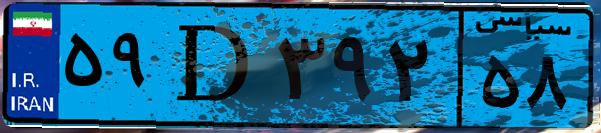2: (385, 28, 445, 110)
3: (270, 28, 330, 110)
5: (57, 26, 110, 100), (475, 38, 525, 113)
8: (525, 38, 570, 115)
9: (330, 28, 385, 110), (110, 28, 158, 98)
D: (158, 12, 270, 120)
